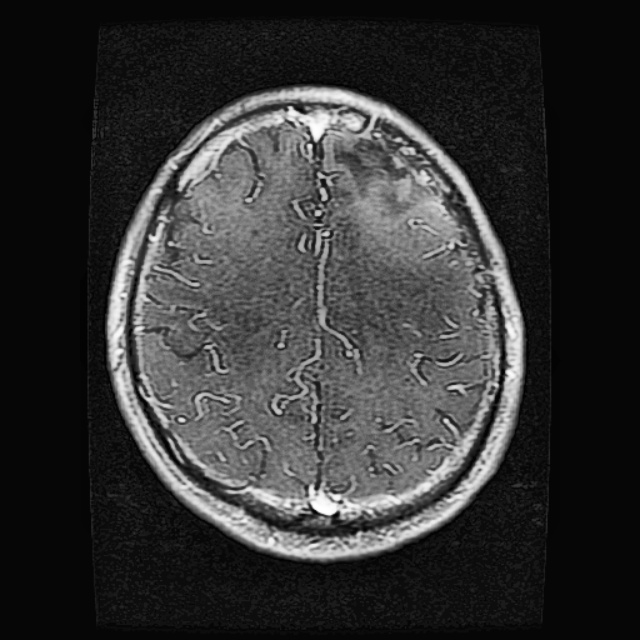Glioma: (332, 133, 433, 213)
